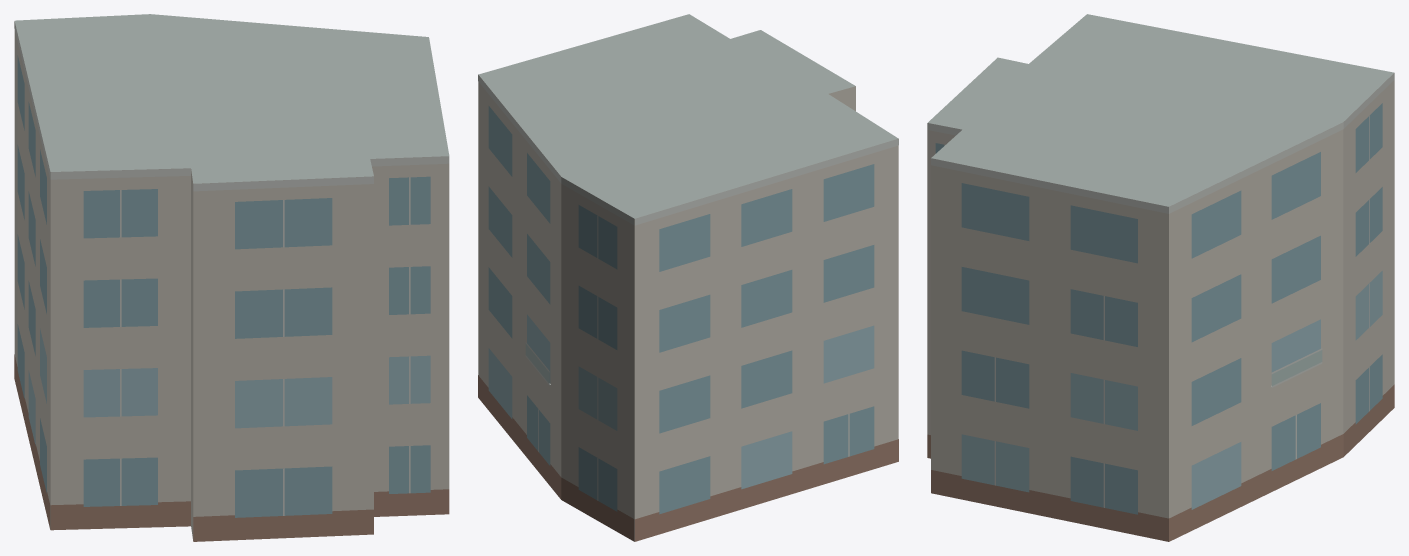
File: survey-upis-32921526.glb
3 views of the same model, side by side, from view 1: azimuth 30°, elevation 25°; view 2: azimuth 150°, elevation 25°; view 3: azimuth 270°, elevation 25° (orthographic). The views are drawn at different scales.
Visible parts, largest first — view 1: survey-upis-32921526.tmp; view 2: survey-upis-32921526.tmp; view 3: survey-upis-32921526.tmp.
Part boxes in pixels (x1,y1,x2,y2): survey-upis-32921526.tmp: (14, 14, 449, 541); survey-upis-32921526.tmp: (478, 14, 898, 541); survey-upis-32921526.tmp: (927, 14, 1394, 541).
Bounding box in the file's own units: 14.2 × 11.5 × 14.54.
